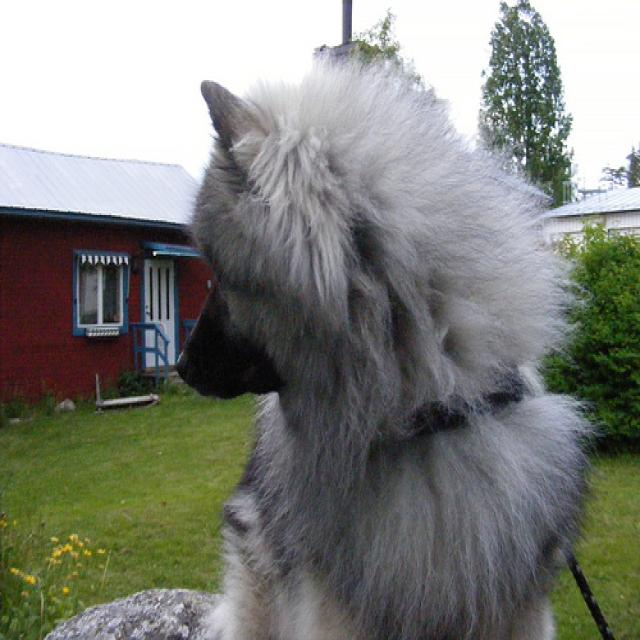dog-keeshond: (166, 46, 594, 637)
